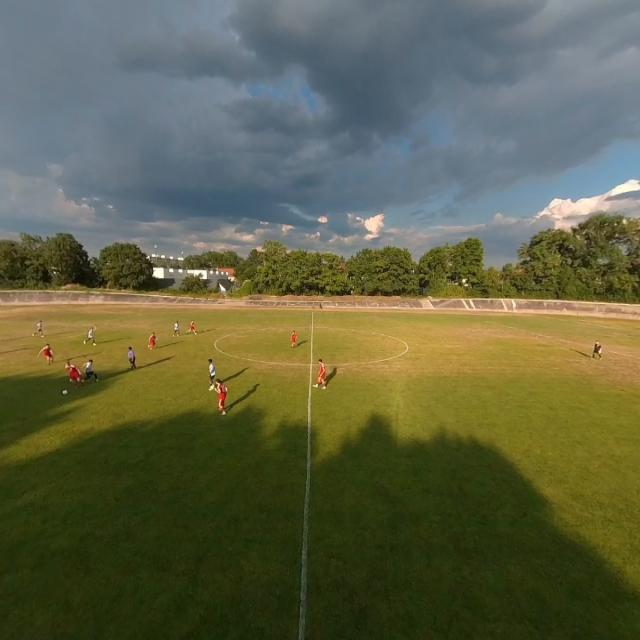ball: (62, 388, 68, 395)
